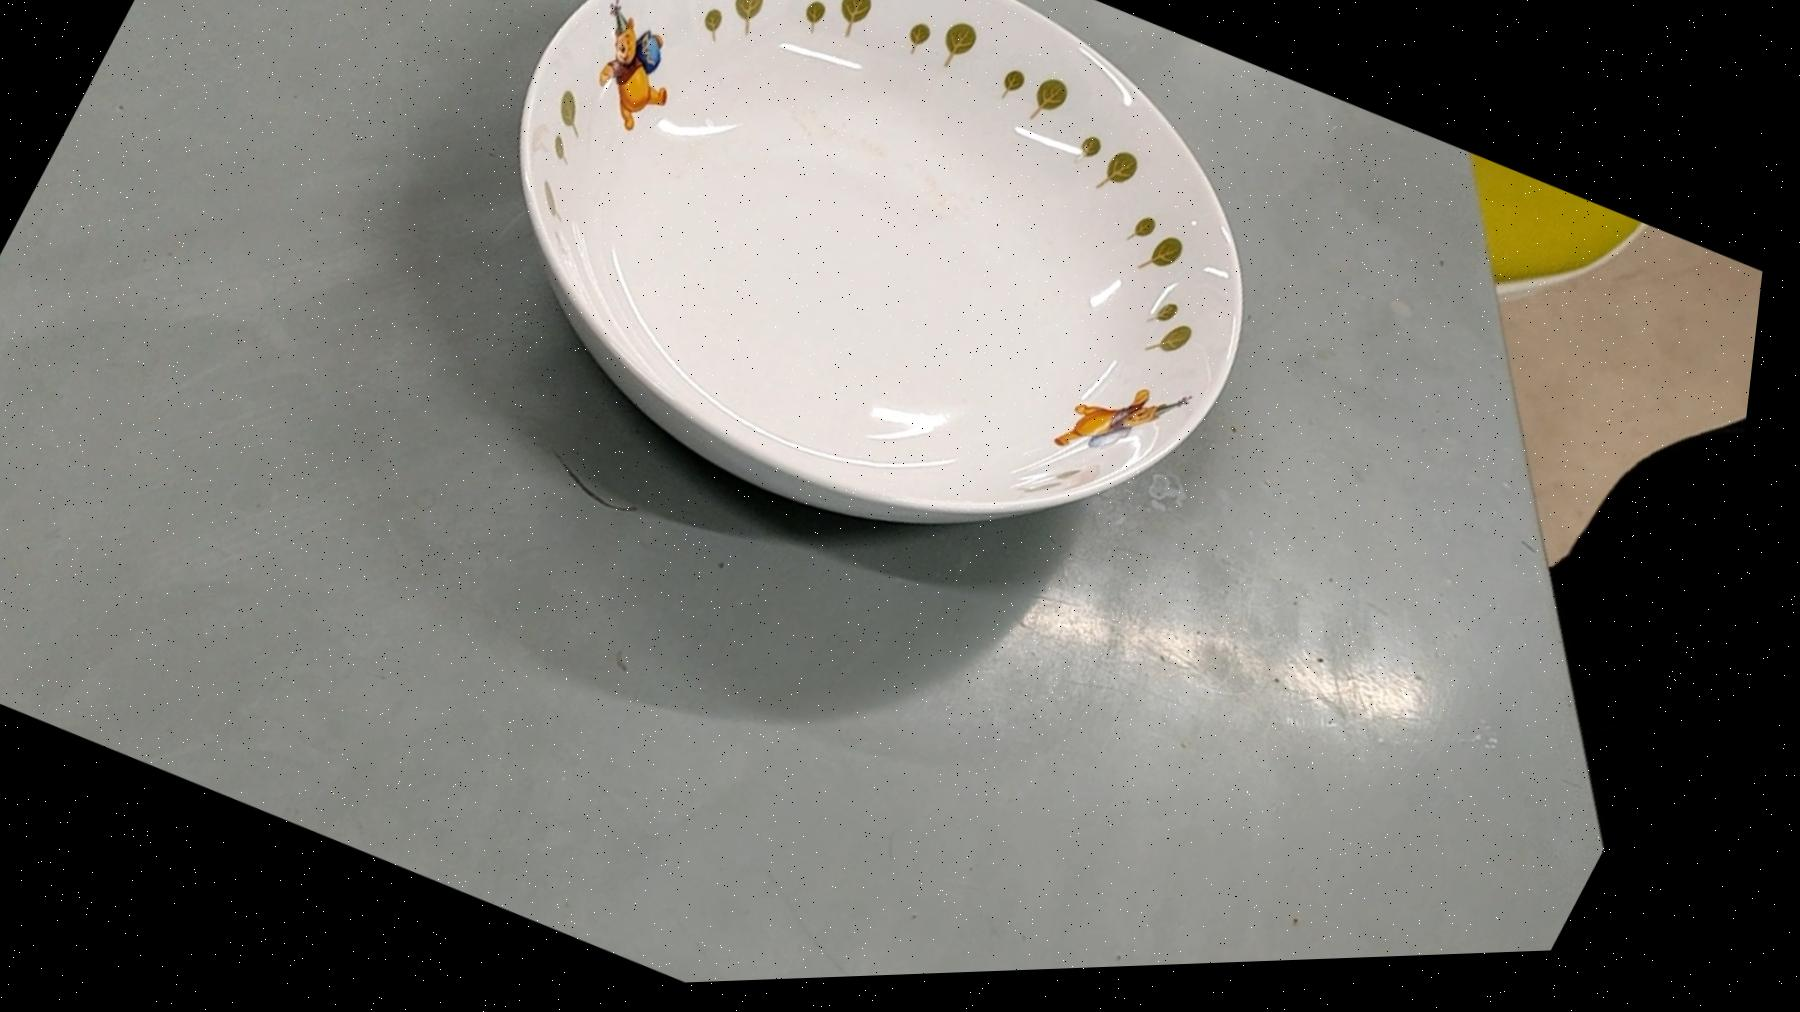plate: (376, 0, 1373, 650)
